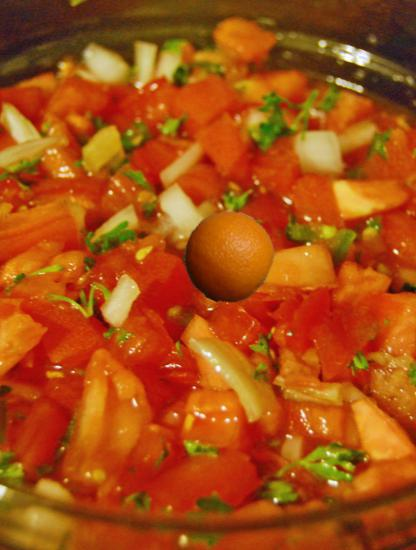Orange: (183, 211, 275, 303)
